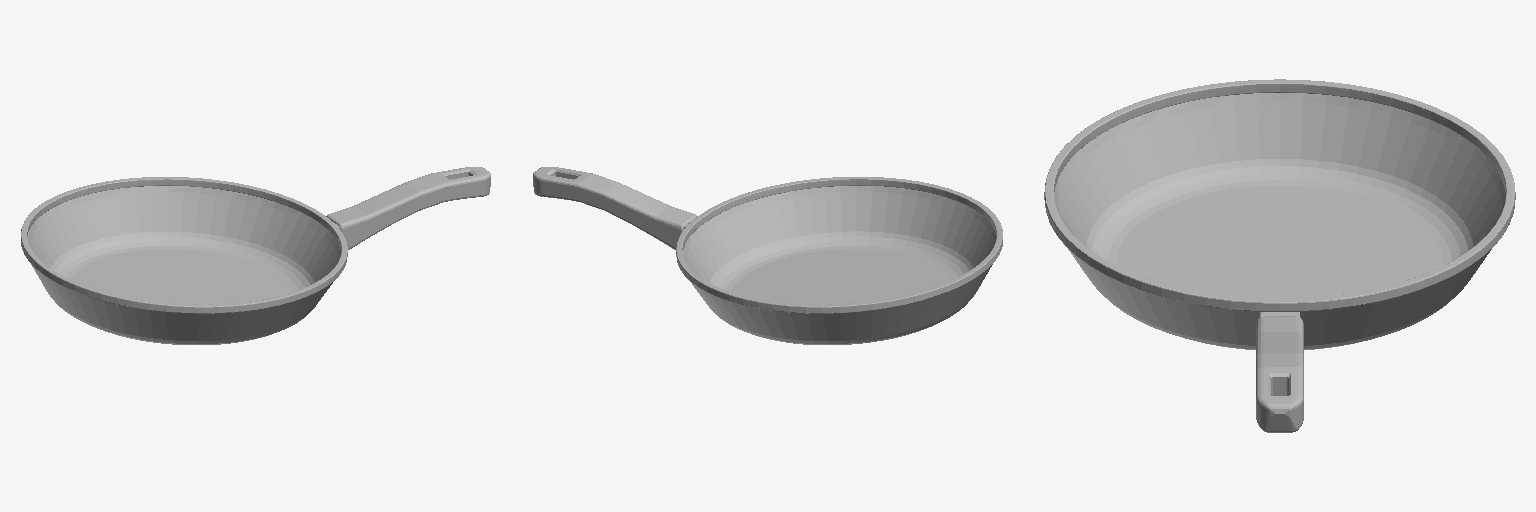
URDF robot description (root):
<robot name="root">
  <link name="link_001">
    <visual>
      <origin xyz="0 0 0" rpy="0 0 0"/>
      <geometry>
        <mesh filename="fryingpan.obj" scale="1.2500E+00 1.2500E+00 1.2500E+00"/>
      </geometry>
      <material name="">
        <color rgba="7.50E-01 7.50E-01 7.50E-01 1"/>
      </material>
    </visual>
    <collision>
      <origin xyz="0 0 0" rpy="0 0 0"/>
      <geometry>
        <mesh filename="fryingpan.obj" scale="1.2500E+00 1.2500E+00 1.2500E+00"/>
      </geometry>
    </collision>
    <inertial>
      <mass value="0.16"/> <!-- 质量：0.1kg -->
    </inertial>
  </link>
</robot>

--- Facts derived from the render (not from the file) ---
3 views of the same robot in one strip: view 1: azimuth 30°, elevation 25°; view 2: azimuth 150°, elevation 25°; view 3: azimuth 270°, elevation 25° (orthographic).
Robot: root — 1 links, 0 joints (none); root link link_001; default pose: all joints at 0.
Links seen in each view (by area): view 1: link_001; view 2: link_001; view 3: link_001.
Boxes of the visible links, x1,y1,x2,y2 form: link_001: (21,167,490,344); link_001: (533,167,1002,344); link_001: (1044,79,1515,432).
Size in the robot's own frame: 0.295 by 0.1875 by 0.0443 metres.
Meshes: 1 distinct files referenced, 1 mesh visuals loaded (1 OBJ).
